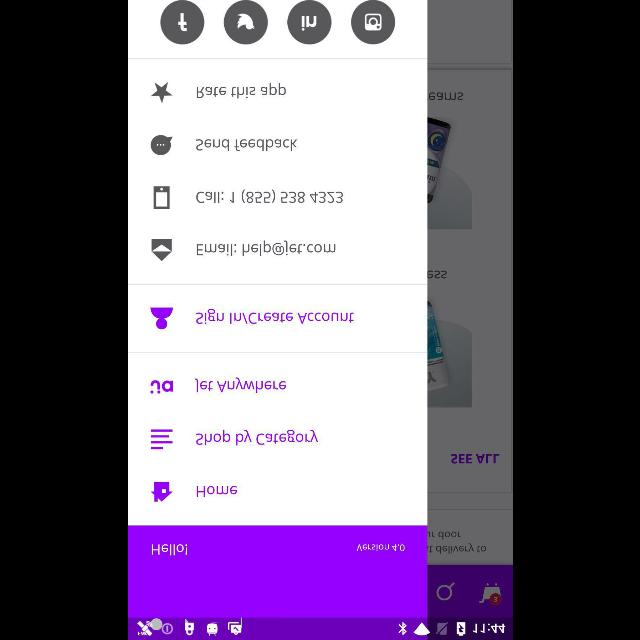icon: (223, 0, 267, 44), (160, 0, 204, 44), (150, 238, 172, 262), (150, 306, 172, 330), (150, 82, 172, 104), (150, 134, 172, 156), (150, 428, 172, 449), (150, 482, 172, 502)
image: (286, 0, 332, 44), (350, 0, 394, 44), (153, 186, 170, 208), (149, 380, 173, 394)
panel: (128, 0, 426, 618)
text: (195, 308, 353, 326), (195, 240, 335, 256), (195, 428, 318, 446), (195, 190, 342, 204), (194, 376, 286, 394), (196, 82, 286, 100), (195, 138, 297, 152), (150, 542, 188, 556), (195, 485, 237, 497), (356, 543, 404, 551)
uppertaskbar: (128, 617, 512, 639)
